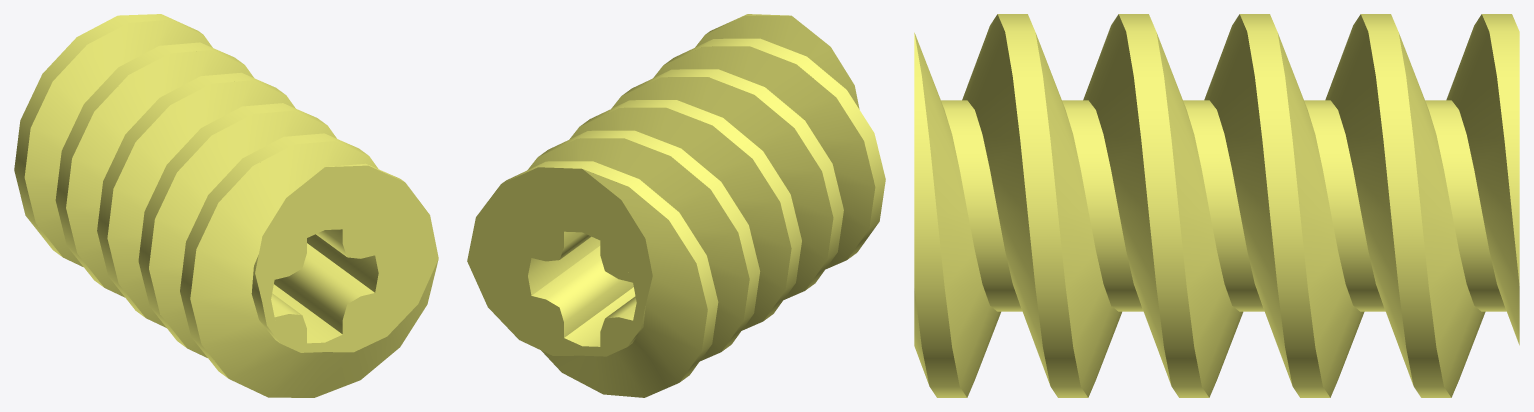
3 renders of one model, left to right at view 1: azimuth 30°, elevation 25°; view 2: azimuth 150°, elevation 25°; view 3: azimuth 270°, elevation 25°, orthographic. The views are drawn at different scales.
Parts seen in each view (by area): view 1: 4716.dat; view 2: 4716.dat; view 3: 4716.dat.
Boxes of the visible parts, x1=… form: 4716.dat: x1=14, y1=14, x2=438, y2=397; 4716.dat: x1=467, y1=14, x2=885, y2=397; 4716.dat: x1=914, y1=14, x2=1519, y2=397.
Size of the model in its own units: 0.0102 by 0.0102 by 0.016.
